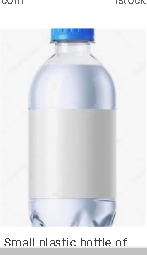Bottle: (27, 27, 121, 229)
